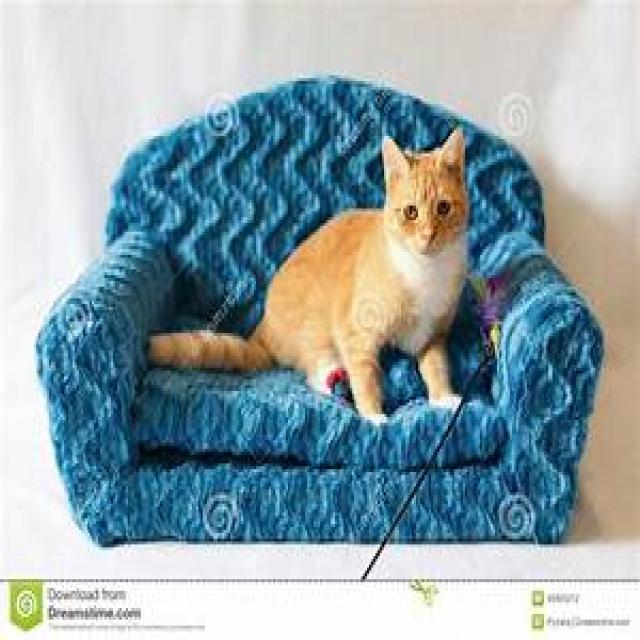cat: (145, 124, 472, 426)
